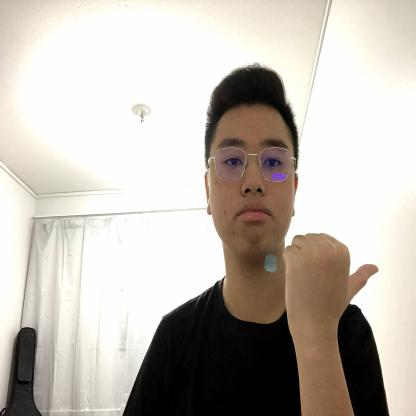left: (281, 227, 380, 339)
